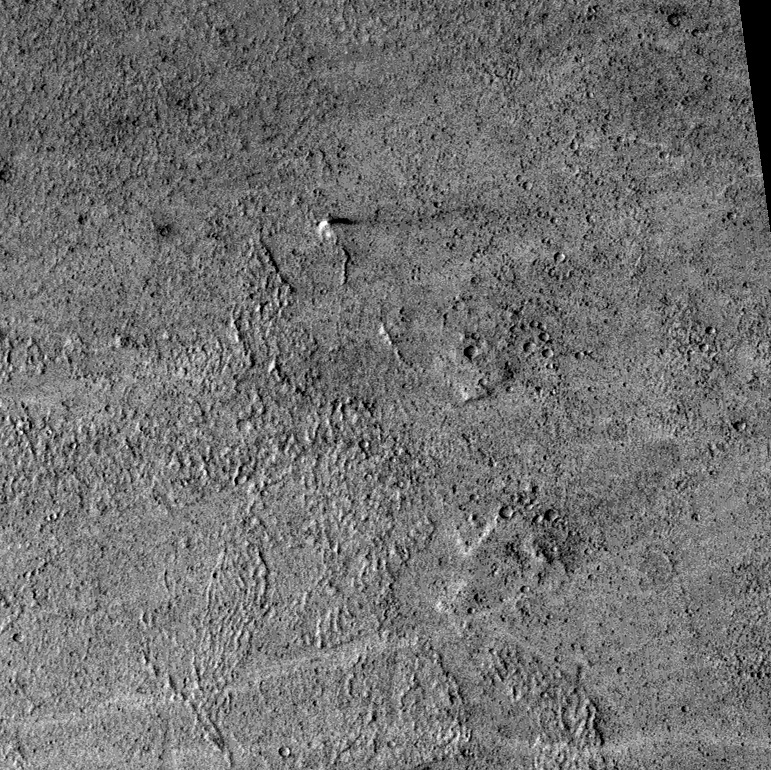dust_devil: (316, 216, 354, 237)
